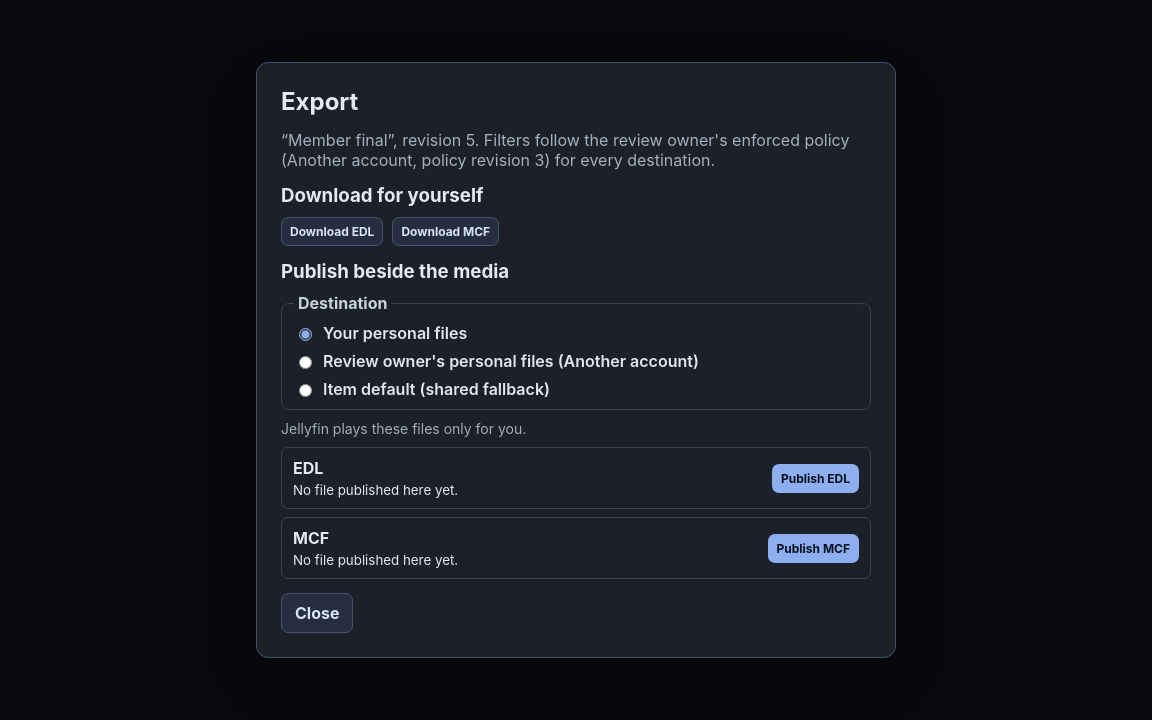
drops a pending confirmation when the destination changes
Click the button "Publish EDL": (815, 478) 772,464 -> 859,492
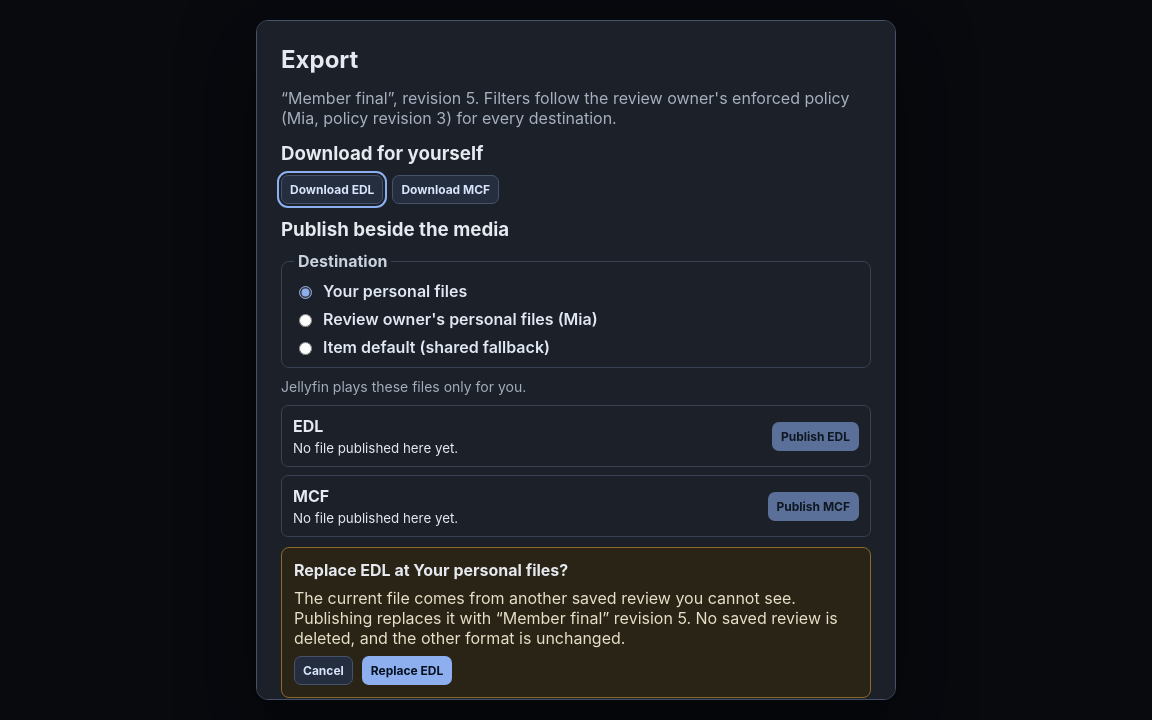
Result: the message named "Confirm replacement" is shown at 281,547 -> 871,698
Click the radio button labelled "Item default (shared fallback)": (306, 348) 299,342 -> 312,355
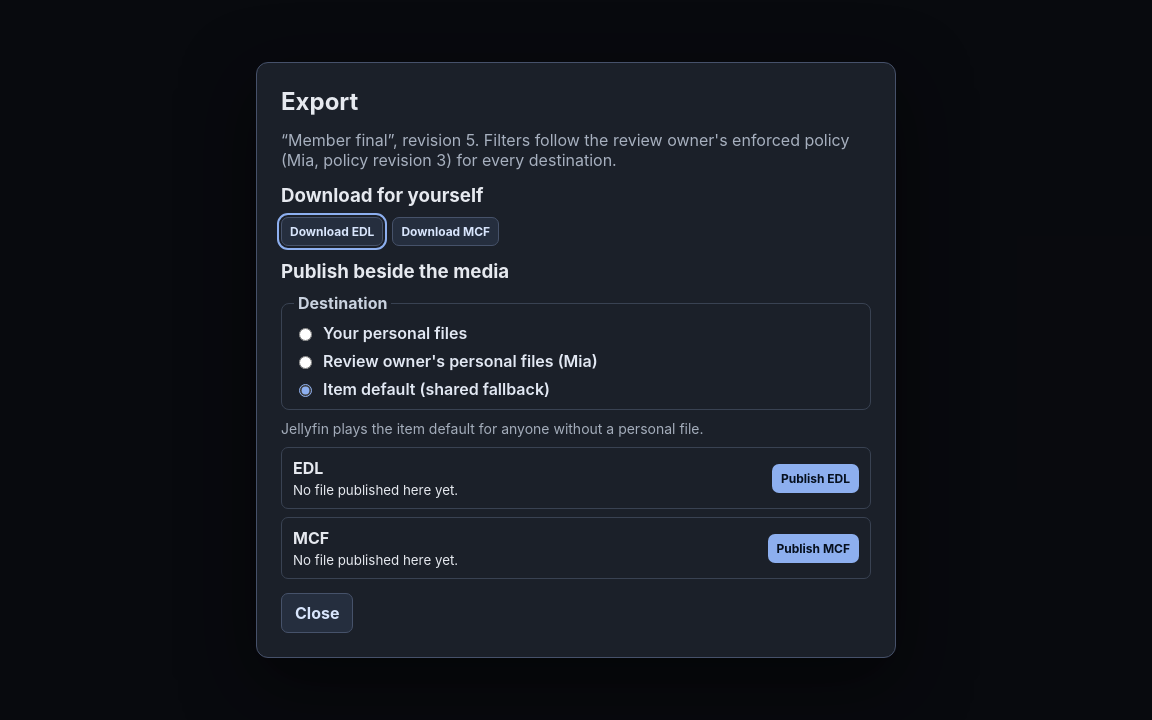
Result: the button "Publish EDL" is enabled at 772,464 -> 859,492
